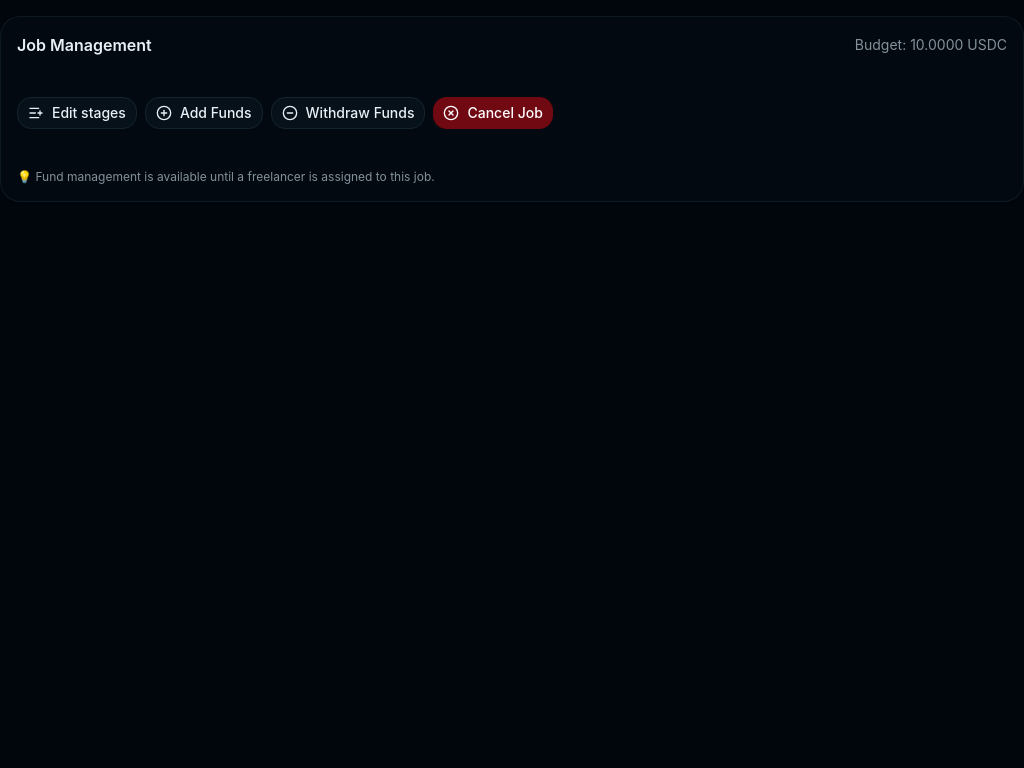
Test case: JobManagement — Add Funds milestone picker displays whatever description it's given › renders the milestone description passed in via props
The image size is (1024, 768).
Click the button "Add Funds" at (204, 113), box [145,97,263,129]
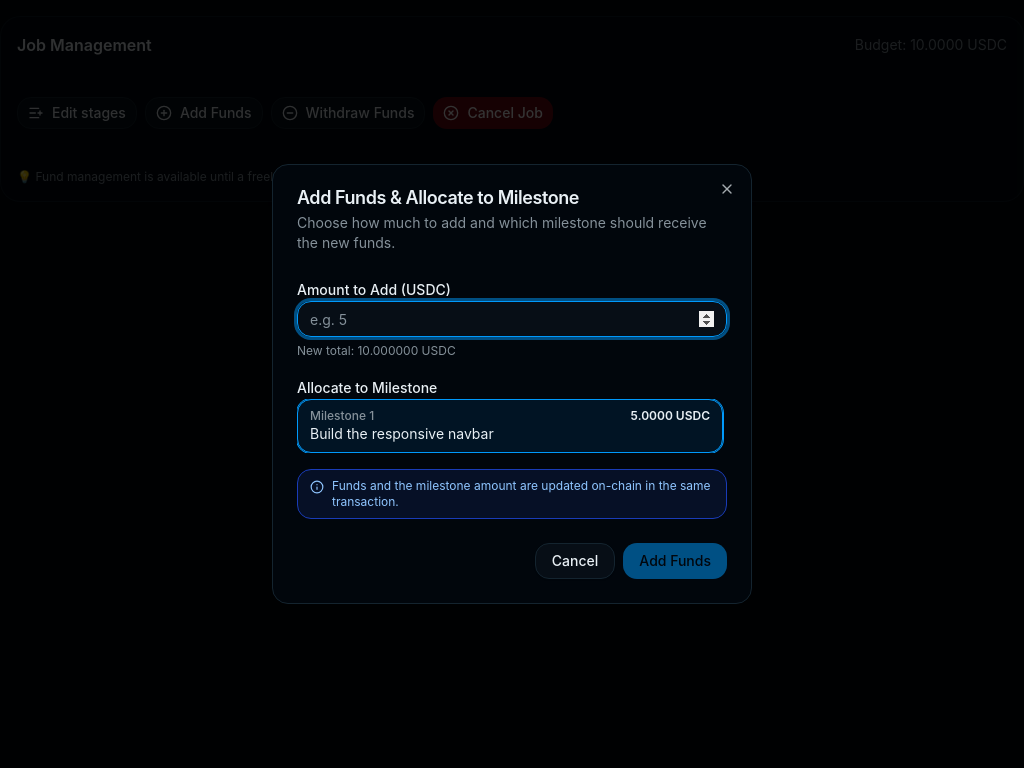
Expected: the text "Build the responsive navbar" is shown, [310,425,494,442]
